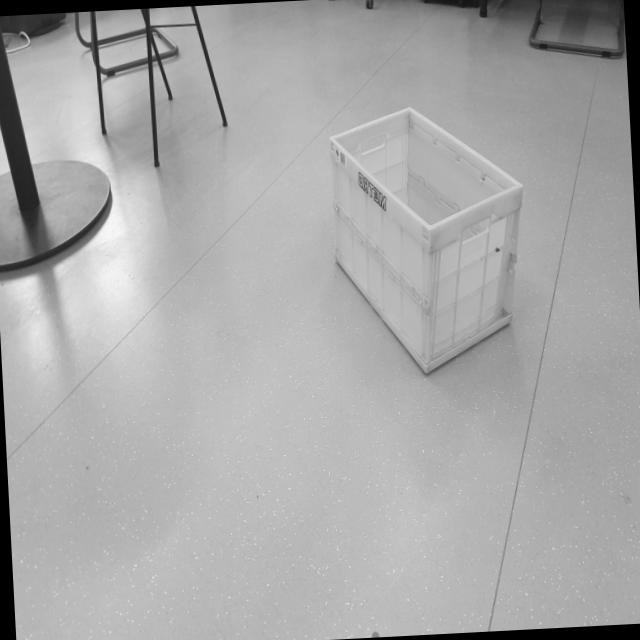box: (316, 90, 542, 380)
